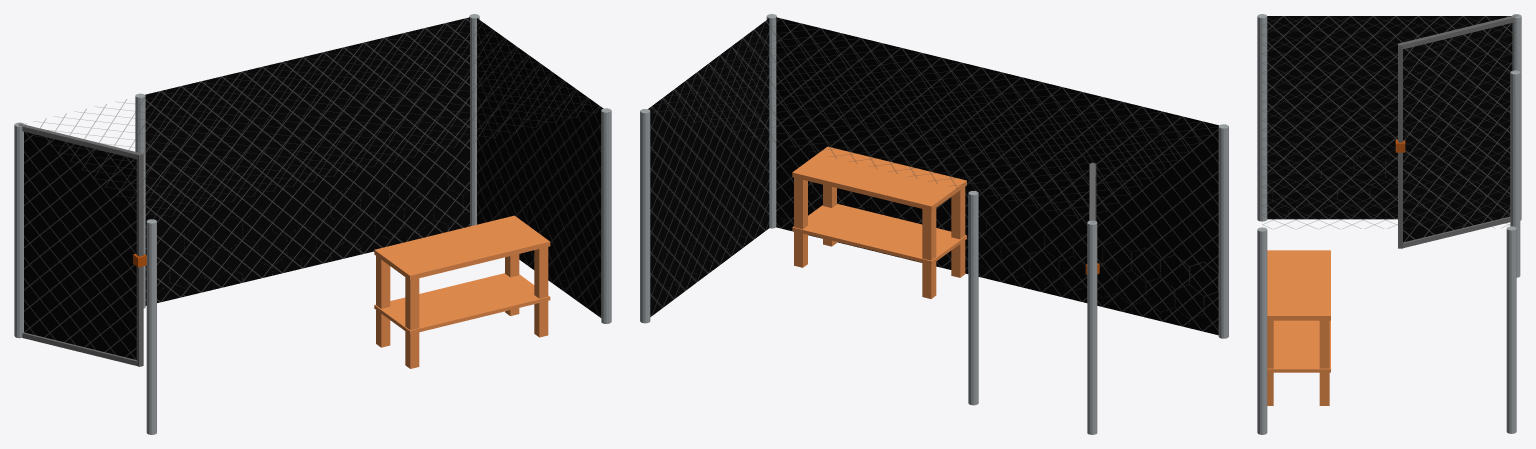
The model's file is poi02_gallinero2_preview.glb.
The picture shows the model from 3 angles, left to right: view 1: azimuth 30°, elevation 25°; view 2: azimuth 150°, elevation 25°; view 3: azimuth 270°, elevation 25°; orthographic projection. The views are drawn at different scales.
Visible parts, largest first — view 1: malla_ciclonica_h1_8, puerta_P1, nido_N1_tablas_sobre_patas, cubierta_malla, eje_V1, eje_V2, eje_V4, eje_V3, eje_V5, malla_hexagonal_banda_baja; view 2: malla_ciclonica_h1_8, nido_N1_tablas_sobre_patas, cubierta_malla, eje_V1, eje_V5, eje_V3, eje_V4, eje_V2, malla_hexagonal_banda_baja; view 3: malla_ciclonica_h1_8, puerta_P1, cubierta_malla, nido_N1_tablas_sobre_patas, eje_V1, eje_V2, eje_V3, eje_V5, eje_V4.
Boxes of the visible parts, bbox=[...] form: malla_ciclonica_h1_8: bbox=[145, 17, 603, 317]; puerta_P1: bbox=[18, 123, 146, 366]; nido_N1_tablas_sobre_patas: bbox=[374, 215, 550, 368]; cubierta_malla: bbox=[23, 18, 600, 220]; eje_V1: bbox=[146, 219, 156, 434]; eje_V2: bbox=[601, 108, 611, 323]; eje_V4: bbox=[14, 122, 24, 338]; eje_V3: bbox=[469, 14, 479, 226]; eje_V5: bbox=[135, 93, 145, 308]; malla_hexagonal_banda_baja: bbox=[157, 161, 599, 314]; malla_ciclonica_h1_8: bbox=[648, 17, 1218, 335]; nido_N1_tablas_sobre_patas: bbox=[792, 146, 966, 298]; cubierta_malla: bbox=[651, 18, 1217, 220]; eje_V1: bbox=[1218, 124, 1228, 338]; eje_V5: bbox=[968, 191, 978, 405]; eje_V3: bbox=[640, 109, 650, 323]; eje_V4: bbox=[1087, 220, 1097, 434]; eje_V2: bbox=[766, 14, 776, 228]; malla_hexagonal_banda_baja: bbox=[652, 163, 1218, 334]; malla_ciclonica_h1_8: bbox=[1267, 16, 1510, 219]; puerta_P1: bbox=[1395, 15, 1518, 248]; cubierta_malla: bbox=[1262, 16, 1516, 228]; nido_N1_tablas_sobre_patas: bbox=[1267, 250, 1330, 405]; eje_V1: bbox=[1257, 14, 1267, 221]; eje_V2: bbox=[1257, 227, 1267, 434]; eje_V3: bbox=[1506, 226, 1516, 433]; eje_V5: bbox=[1510, 70, 1520, 277]; eje_V4: bbox=[1512, 14, 1521, 220].
Size of the model in its own units: 4.13 by 1.8 by 2.12.
Materials: 7 (3 with a texture image).
